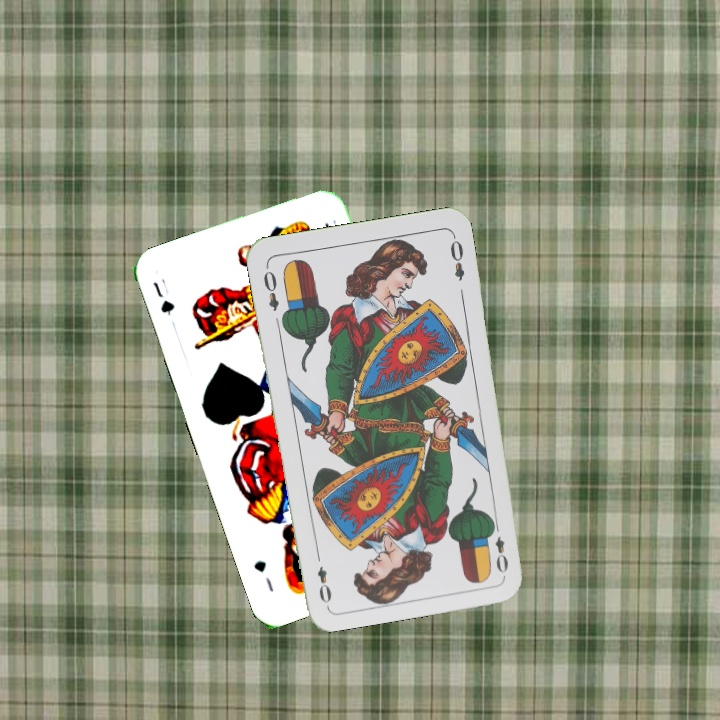EO: (486, 518, 511, 575), (259, 266, 281, 314)
GU: (148, 277, 177, 318)
